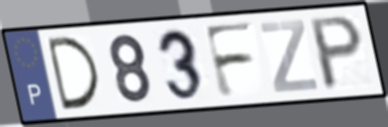3: (156, 25, 212, 104)
8: (108, 32, 155, 106)
D: (43, 34, 103, 113)
F: (201, 20, 257, 102)
P: (308, 13, 365, 94)
Z: (257, 18, 321, 95)
